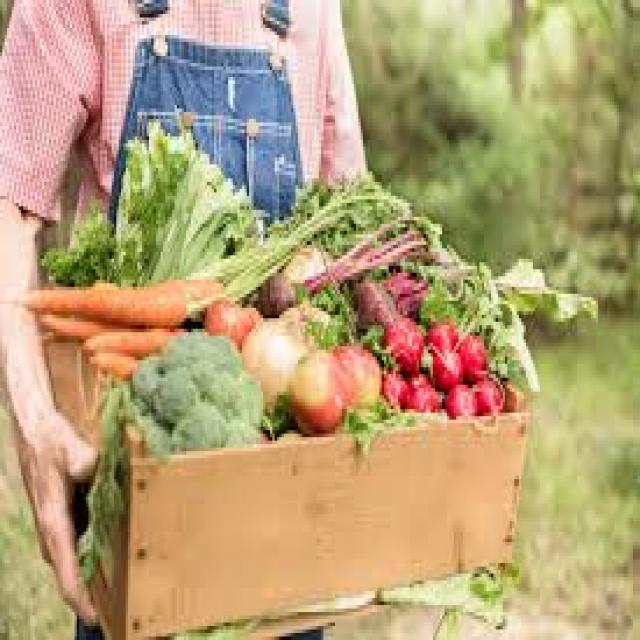organic waste: (37, 112, 261, 276), (224, 168, 408, 297), (295, 206, 454, 312), (126, 325, 265, 444), (398, 248, 600, 326), (16, 273, 226, 322), (74, 304, 256, 350), (75, 406, 116, 588), (240, 311, 307, 406), (477, 290, 538, 392), (289, 346, 349, 430), (340, 402, 437, 451), (351, 269, 426, 329), (37, 308, 142, 339), (333, 339, 379, 409), (200, 294, 261, 346), (382, 315, 421, 374), (398, 367, 440, 409), (258, 270, 298, 312), (428, 343, 461, 388), (470, 364, 503, 409), (456, 329, 484, 381), (440, 378, 475, 416), (81, 350, 135, 374), (260, 395, 288, 437), (426, 318, 454, 343), (382, 367, 402, 399)
